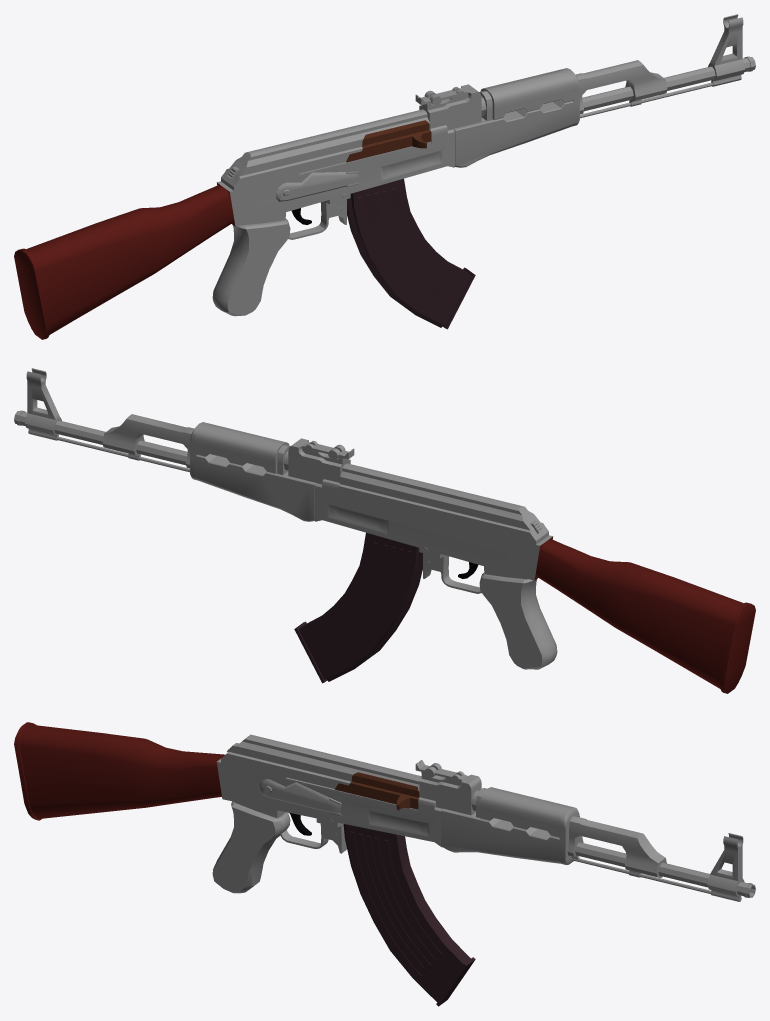
The picture shows the model from 3 angles, top to bottom: view 1: azimuth 30°, elevation 25°; view 2: azimuth 150°, elevation 25°; view 3: azimuth 330°, elevation 25°; orthographic projection.
Parts seen in each view (by area): view 1: Cube, Cube.003, Cube.002; view 2: Cube, Cube.003; view 3: Cube, Cube.003, Cube.002.
Boxes of the visible parts, x1,y1,x2,y2 form: Cube: (14,14,755,339); Cube.003: (347,178,475,329); Cube.002: (346,120,430,162); Cube: (14,368,755,693); Cube.003: (294,532,422,683); Cube: (14,722,755,901); Cube.003: (343,824,475,1006); Cube.002: (335,772,419,810).
Size of the model in its own units: 9.9 by 3.09 by 0.5733.
